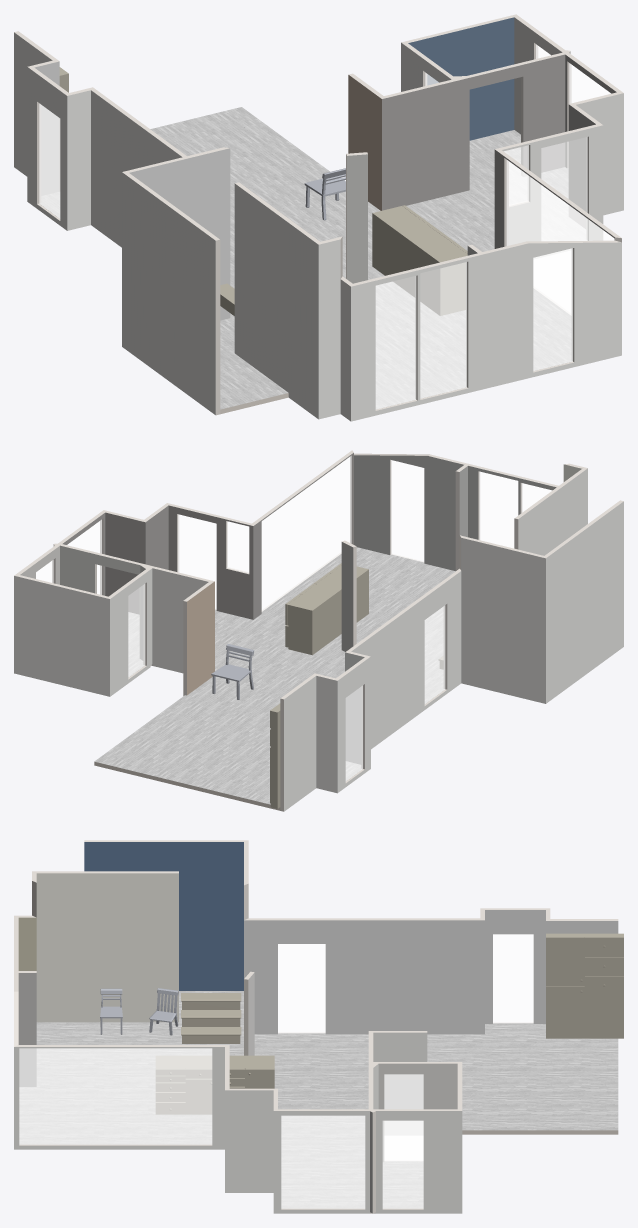
The model's file is FrontDeskModel.glb.
3 renders of one model, top to bottom at view 1: azimuth 30°, elevation 25°; view 2: azimuth 150°, elevation 25°; view 3: azimuth 270°, elevation 25°, orthographic. The views are drawn at different scales.
Parts seen in each view (by area): view 1: floor_Other_1, wall_28, wall_16, wall_13, wall_59, wall_19, storage_cabinet_mid40, wall_81, wall_4, door_3, door_13, wall_31 (+38 smaller); view 2: floor_Other_1, wall_1, wall_28, wall_26, wall_4, door_1, door_11, wall_55, storage_cabinet_mid40, wall_23, wall_16, wall_15 (+42 smaller); view 3: floor_Other_1, wall_37, wall_61, door_1, door_11, wall_85, storage_cabinet_tall20, door_17, door_7, wall_12, wall_24, storage_cabinet_mid40 (+24 smaller).
Part boxes in pixels (bbox=[...]): floor_Other_1: bbox=[40, 107, 585, 409]; wall_28: bbox=[122, 172, 215, 414]; wall_16: bbox=[234, 183, 318, 419]; wall_13: bbox=[482, 242, 621, 389]; wall_59: bbox=[382, 81, 456, 210]; wall_19: bbox=[351, 254, 482, 421]; storage_cabinet_mid40: bbox=[372, 205, 467, 315]; wall_81: bbox=[408, 17, 514, 140]; wall_4: bbox=[91, 90, 182, 247]; door_3: bbox=[420, 262, 466, 398]; door_13: bbox=[420, 262, 466, 398]; wall_31: bbox=[129, 148, 230, 320]; floor_Other_1: bbox=[94, 547, 455, 804]; wall_1: bbox=[461, 538, 545, 703]; wall_28: bbox=[546, 501, 623, 703]; wall_26: bbox=[14, 576, 109, 696]; wall_4: bbox=[351, 571, 461, 749]; door_1: bbox=[262, 456, 351, 611]; door_11: bbox=[262, 456, 351, 611]; wall_55: bbox=[354, 455, 463, 570]; storage_cabinet_mid40: bbox=[285, 563, 368, 655]; wall_23: bbox=[284, 676, 316, 811]; wall_16: bbox=[518, 468, 587, 555]; wall_15: bbox=[152, 568, 208, 673]; floor_Other_1: bbox=[19, 991, 618, 1208]; wall_37: bbox=[244, 920, 484, 1034]; wall_61: bbox=[36, 873, 178, 1022]; door_1: bbox=[19, 1048, 211, 1144]; door_11: bbox=[19, 1048, 211, 1144]; wall_85: bbox=[84, 842, 243, 990]; storage_cabinet_tall20: bbox=[546, 933, 623, 1038]; door_17: bbox=[281, 1116, 364, 1208]; door_7: bbox=[281, 1116, 364, 1208]; wall_12: bbox=[375, 1111, 462, 1213]; wall_24: bbox=[225, 1090, 273, 1192]; storage_cabinet_mid40: bbox=[156, 1055, 274, 1114].
Size of the model in its own units: 11.67 by 3.75 by 13.55.
Materials: 69 (2 with a texture image).
